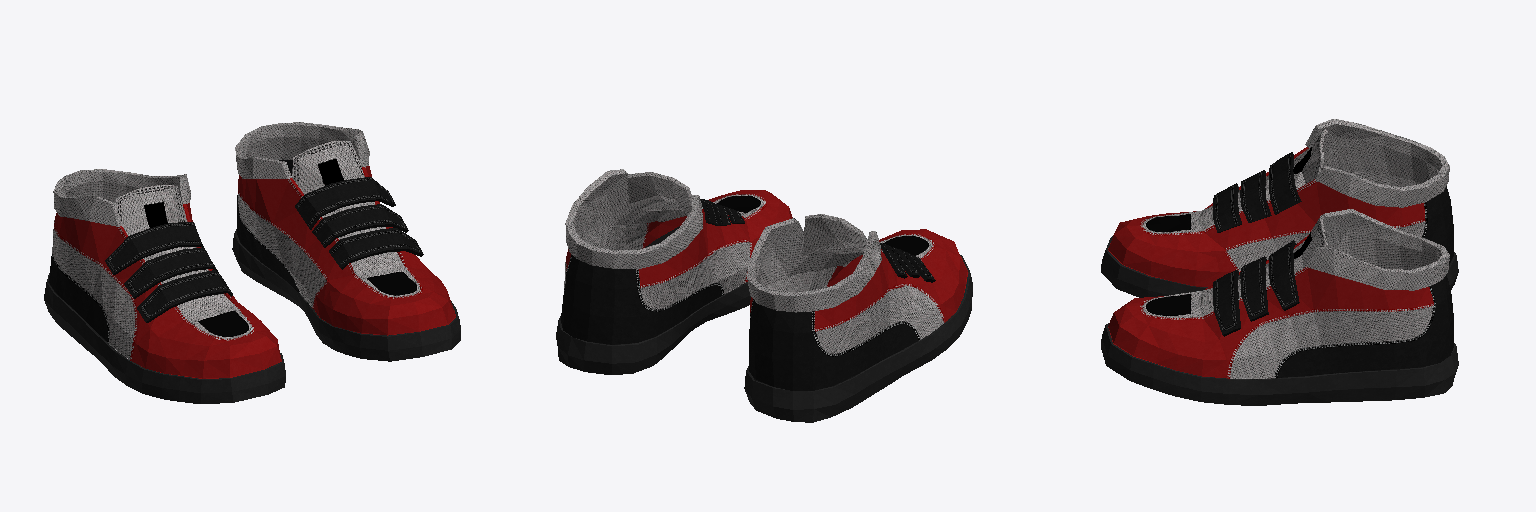
3 renders of one model, left to right at view 1: azimuth 30°, elevation 25°; view 2: azimuth 150°, elevation 25°; view 3: azimuth 270°, elevation 25°, orthographic.
Parts seen in each view (by area): view 1: SportShoes; view 2: SportShoes; view 3: SportShoes.
Boxes of the visible parts, x1,y1,x2,y2 form: SportShoes: [44, 122, 460, 403]; SportShoes: [556, 169, 972, 422]; SportShoes: [1101, 119, 1458, 405].
Bounding box in the file's own units: 614 × 285 × 608.
1 materials, 1 textured.